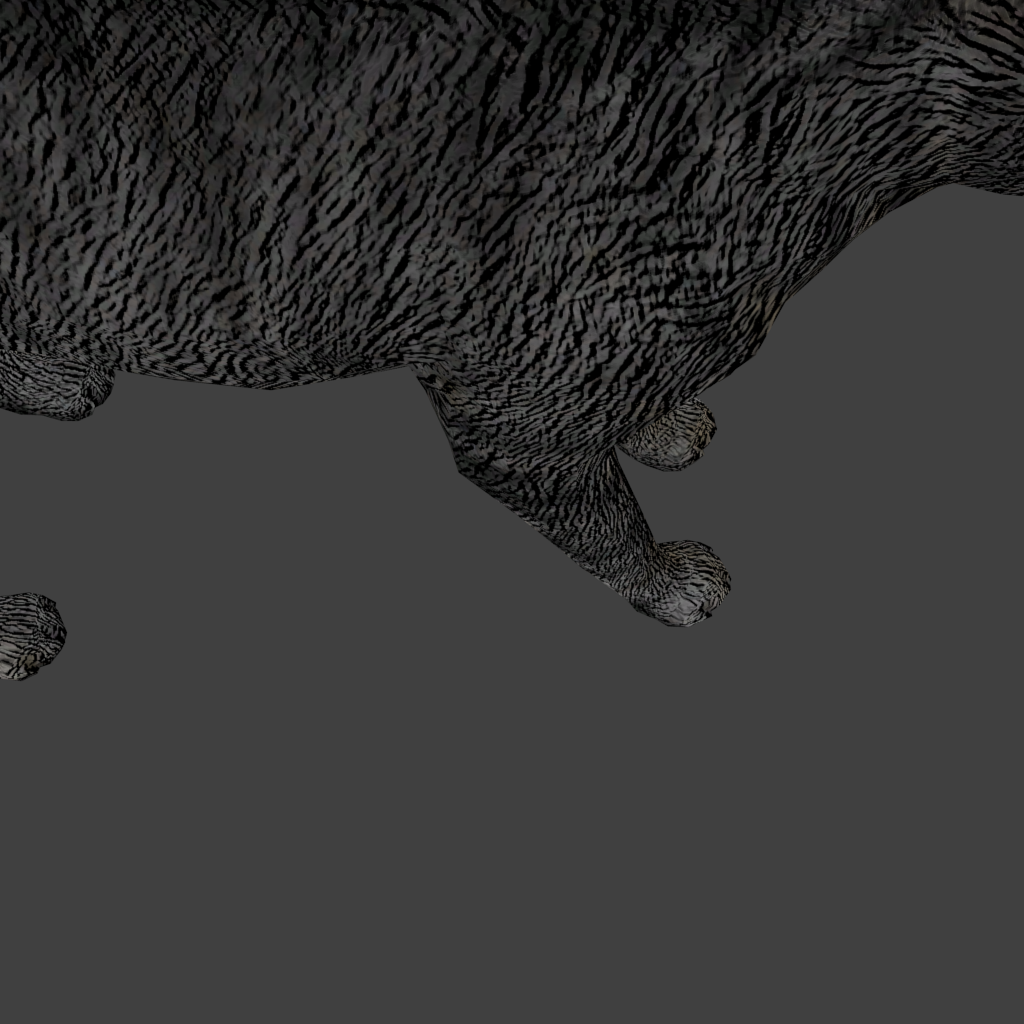Cat: (0, 0, 1024, 681)
